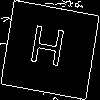H: (25, 25, 68, 76)
